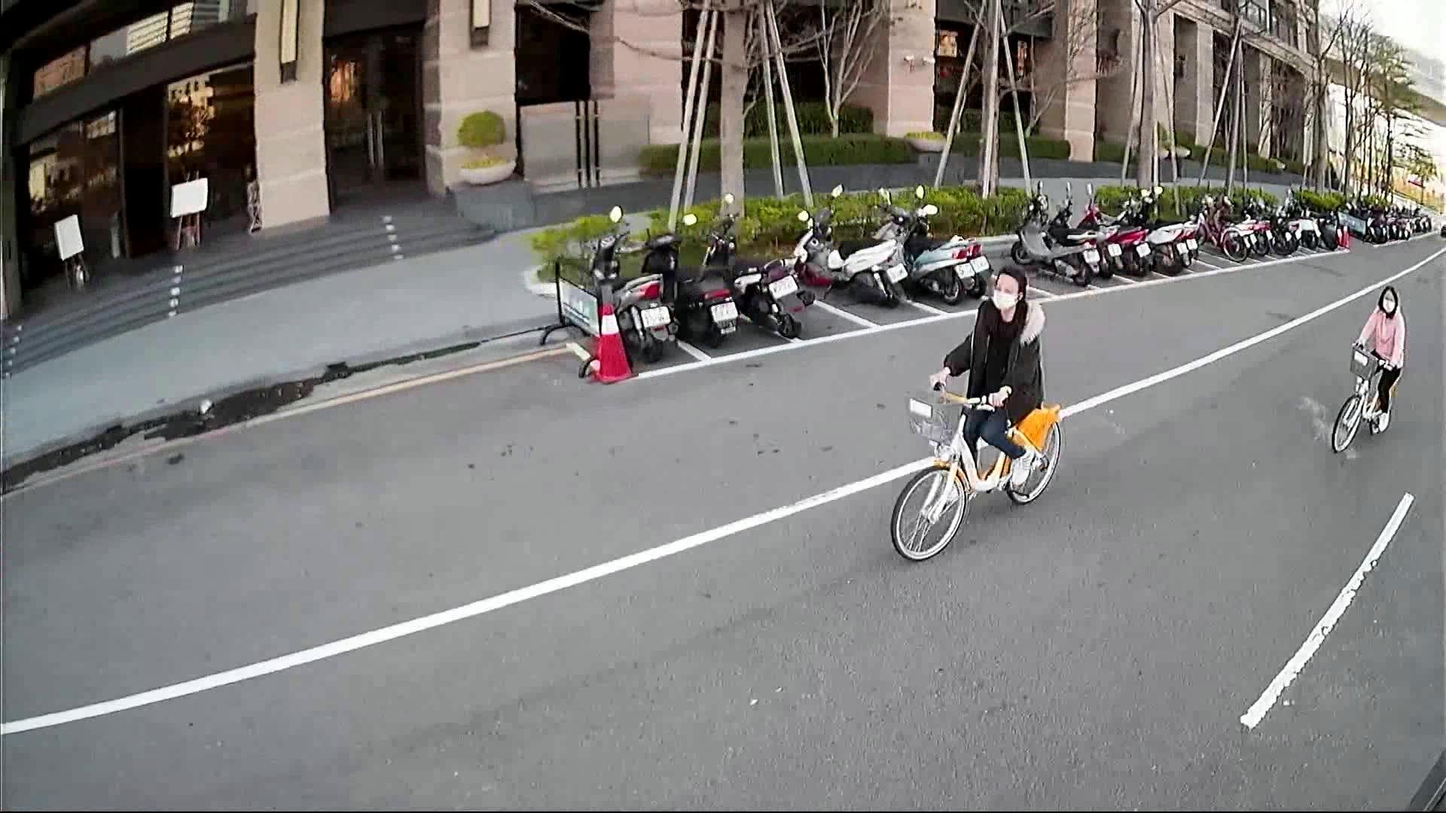person: (921, 256, 1049, 507), (1344, 275, 1408, 437)
